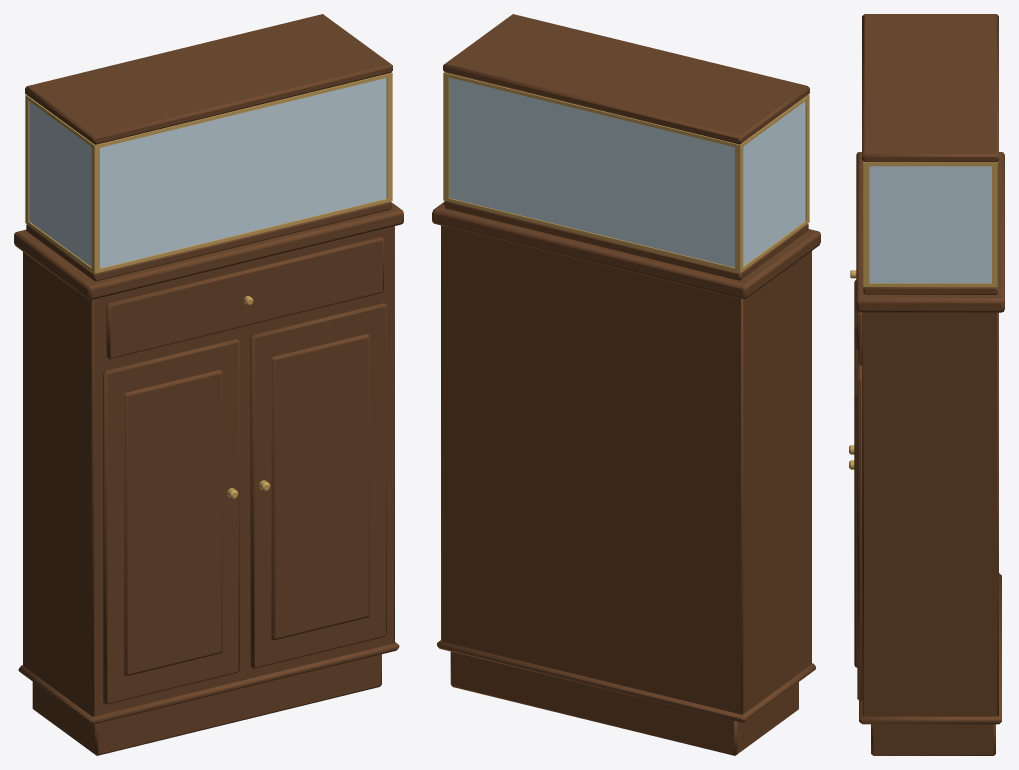
Rendered from display-window.glb.
The picture shows the model from 3 angles, left to right: view 1: azimuth 30°, elevation 25°; view 2: azimuth 150°, elevation 25°; view 3: azimuth 270°, elevation 25°; orthographic projection. The views are drawn at different scales.
Visible parts, largest first — view 1: cabinet, glass; view 2: cabinet, glass; view 3: cabinet, glass.
Boxes of the visible parts, box(x1,y1,x2,y2) form: cabinet: box(14, 14, 403, 755); glass: box(29, 78, 386, 268); cabinet: box(432, 14, 820, 755); glass: box(449, 77, 805, 267); cabinet: box(849, 14, 1004, 755); glass: box(869, 166, 991, 283).
Size of the model in its own units: 0.594 by 1.12 by 0.262.
